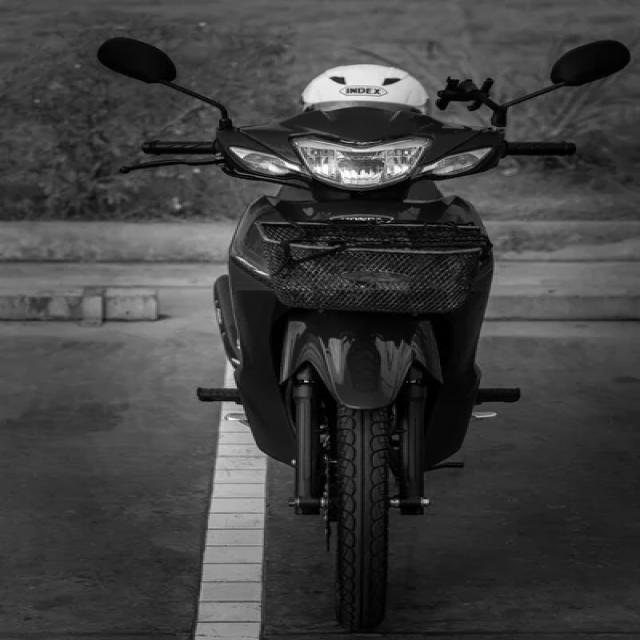Motorcycle: (100, 37, 630, 632)
